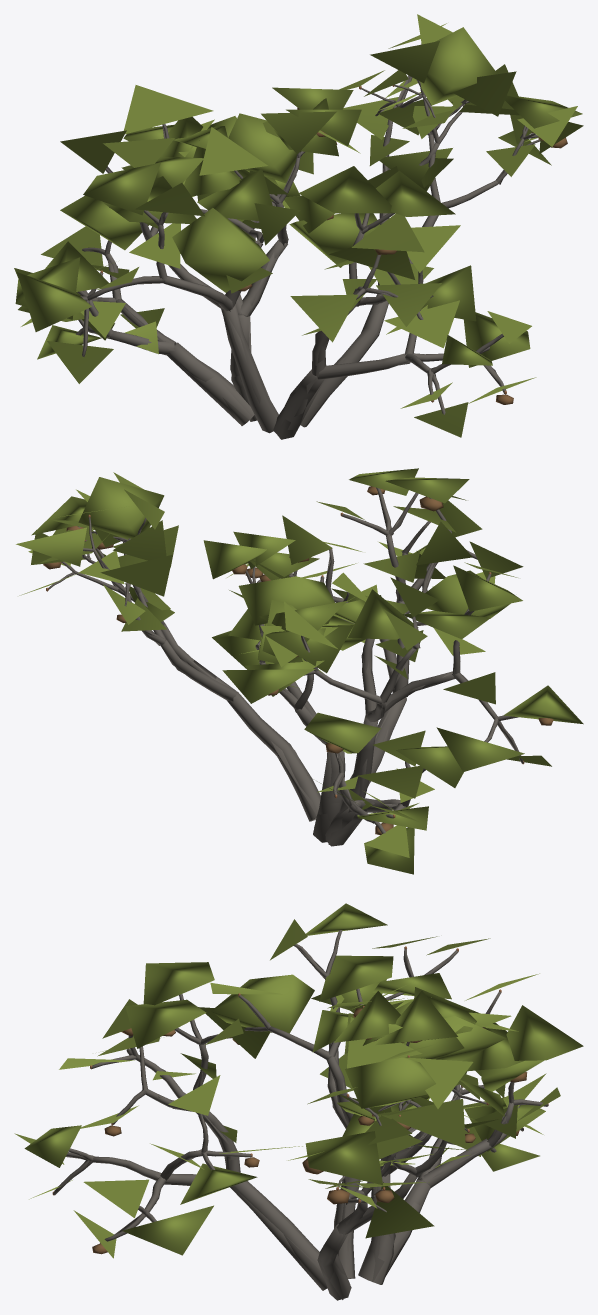
The model's file is scrub_oak_2.glb.
The picture shows the model from 3 angles, top to bottom: view 1: azimuth 30°, elevation 25°; view 2: azimuth 150°, elevation 25°; view 3: azimuth 270°, elevation 25°; orthographic projection. The views are drawn at different scales.
Visible parts, largest first — view 1: ScrubOak_LOD_Far_Foliage, ScrubOak_LOD_Far_Bark, ScrubOak_LimbWood_4, ScrubOak_LimbWood_3, ScrubOak_LimbWood_0, ScrubOak_LimbWood_2, ScrubOak_LimbWood_1; view 2: ScrubOak_LOD_Far_Foliage, ScrubOak_LOD_Far_Bark, ScrubOak_LimbWood_0, ScrubOak_LimbWood_3, ScrubOak_LimbWood_4, ScrubOak_LimbWood_1, ScrubOak_LimbWood_2; view 3: ScrubOak_LOD_Far_Foliage, ScrubOak_LimbWood_4, ScrubOak_LOD_Far_Bark, ScrubOak_LimbWood_3, ScrubOak_LimbWood_0, ScrubOak_LimbWood_2, ScrubOak_LimbWood_1.
Boxes of the visible parts, <box> form: ScrubOak_LOD_Far_Foliage: <box>14,14,583,437</box>; ScrubOak_LOD_Far_Bark: <box>78,75,536,439</box>; ScrubOak_LimbWood_4: <box>273,213,506,433</box>; ScrubOak_LimbWood_3: <box>80,124,278,433</box>; ScrubOak_LimbWood_0: <box>301,43,540,427</box>; ScrubOak_LimbWood_2: <box>76,240,254,425</box>; ScrubOak_LimbWood_1: <box>230,151,304,421</box>; ScrubOak_LOD_Far_Foliage: <box>16,468,583,874</box>; ScrubOak_LOD_Far_Bark: <box>63,493,518,844</box>; ScrubOak_LimbWood_0: <box>48,517,320,821</box>; ScrubOak_LimbWood_3: <box>301,562,523,811</box>; ScrubOak_LimbWood_4: <box>320,487,477,786</box>; ScrubOak_LimbWood_1: <box>245,567,349,842</box>; ScrubOak_LimbWood_2: <box>325,753,425,846</box>; ScrubOak_LOD_Far_Foliage: <box>14,903,583,1258</box>; ScrubOak_LimbWood_4: <box>53,994,327,1290</box>; ScrubOak_LOD_Far_Bark: <box>65,942,536,1299</box>; ScrubOak_LimbWood_3: <box>239,930,500,1278</box>; ScrubOak_LimbWood_0: <box>317,1086,486,1300</box>; ScrubOak_LimbWood_2: <box>389,1082,548,1266</box>; ScrubOak_LimbWood_1: <box>358,1042,431,1284</box>.
Size of what is drawn, in the model's own units: 5.1 by 2.95 by 4.5.
